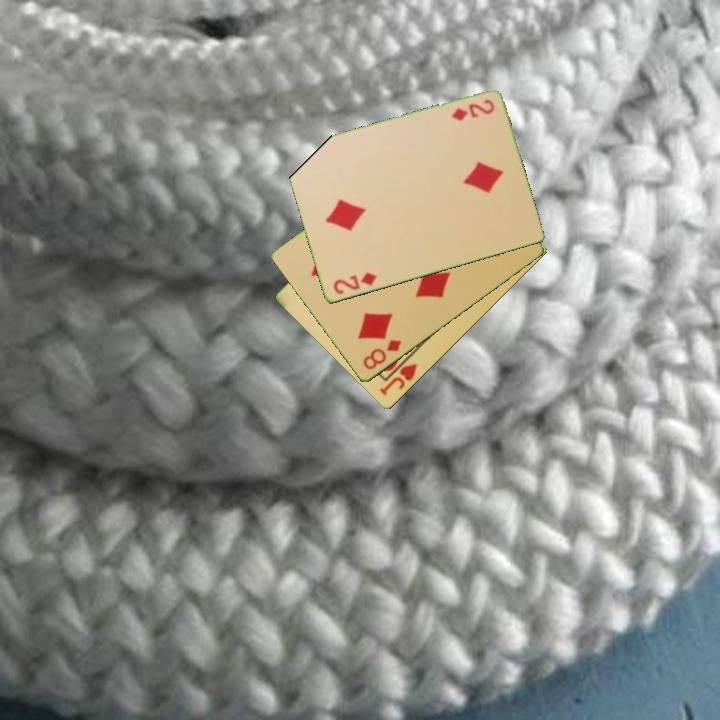2d: (329, 269, 379, 297), (448, 96, 497, 124)
8d: (359, 336, 404, 373)
Jh: (376, 351, 420, 399)
